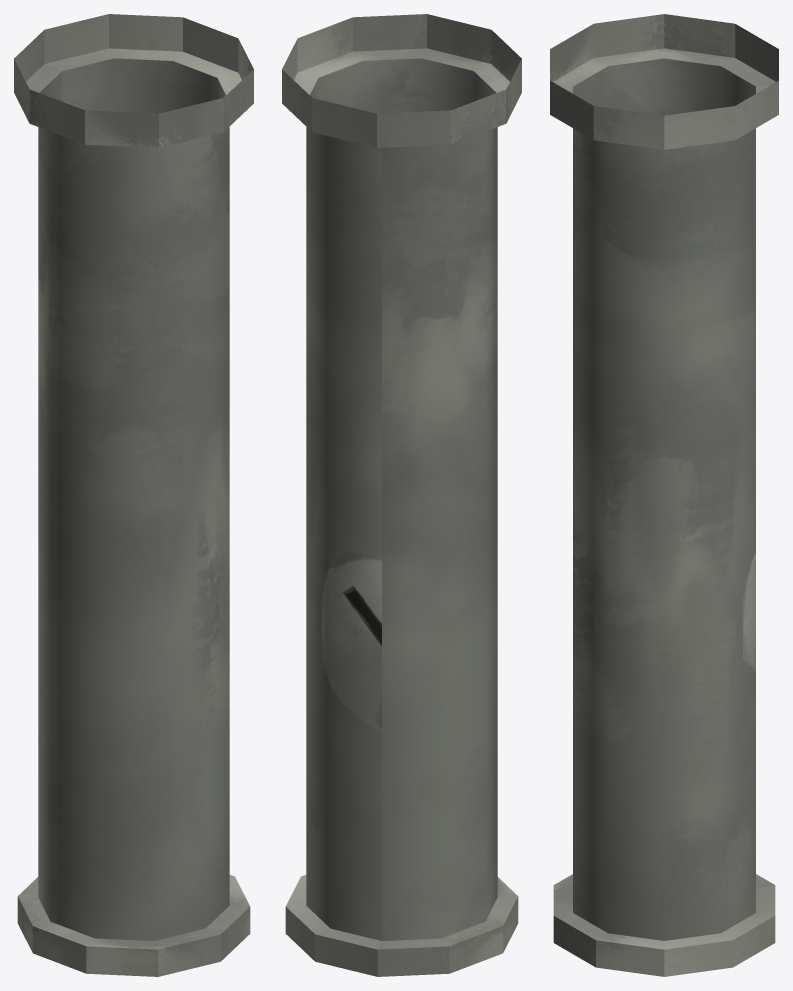
The model's file is pipe_1_01.fbx.
3 renders of one model, left to right at view 1: azimuth 30°, elevation 25°; view 2: azimuth 150°, elevation 25°; view 3: azimuth 270°, elevation 25°, orthographic.
Visible parts, largest first — view 1: Object030; view 2: Object030; view 3: Object030.
Part boxes in pixels (<box>): Object030: <box>14,14,253,976</box>; Object030: <box>282,14,521,976</box>; Object030: <box>550,14,778,976</box>.
Size of the model in its own units: 36.19 by 143 by 34.42.
